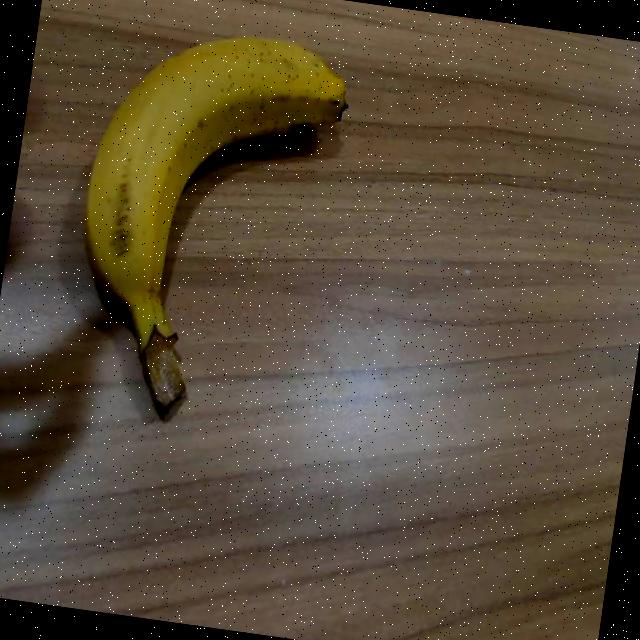Ripe: (39, 0, 372, 454)
